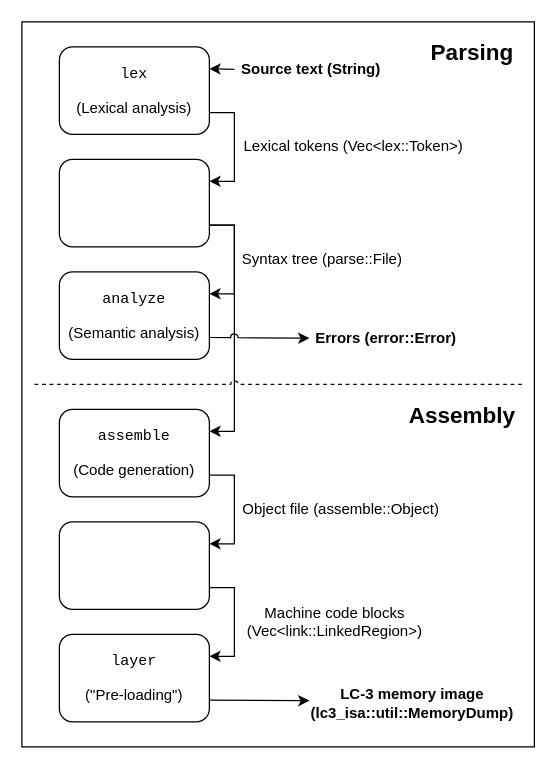
Some shapes in this 556 by 769 pixel diagram are drawn without their labels. The shapes that lost their labels are listed below. From the top down, each one's box as (x1, y1, x2, y2) in pixels, then its label:
(58, 158, 209, 247): parse (Syntactic analysis)
(58, 521, 209, 609): link (Linking)
